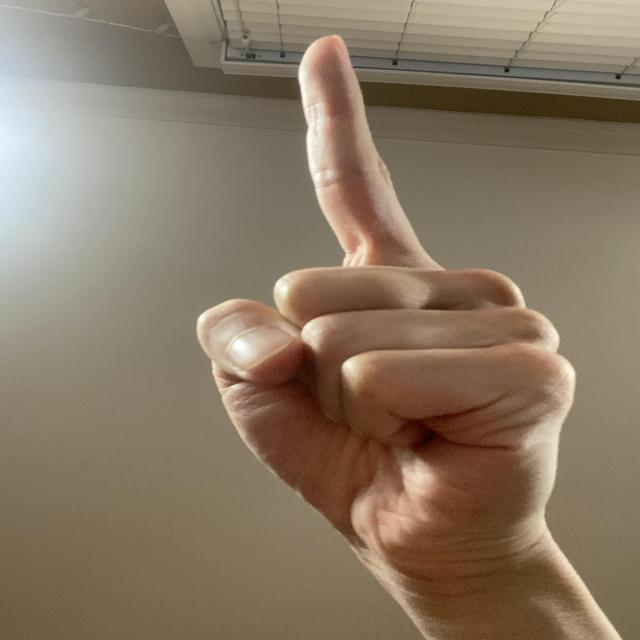Z: (178, 28, 590, 590)
